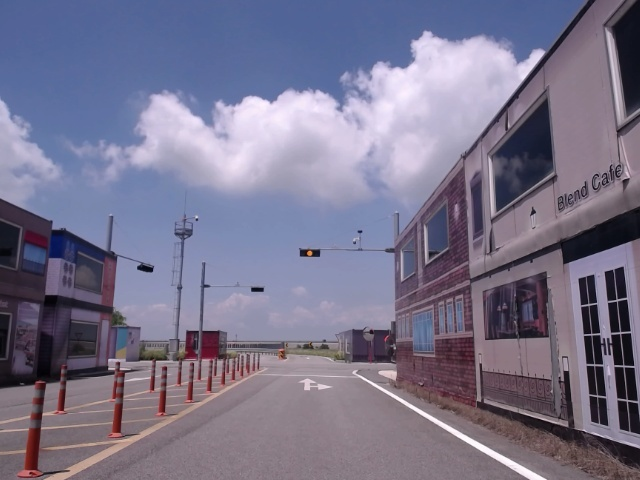orange_3: (301, 250, 319, 256)
